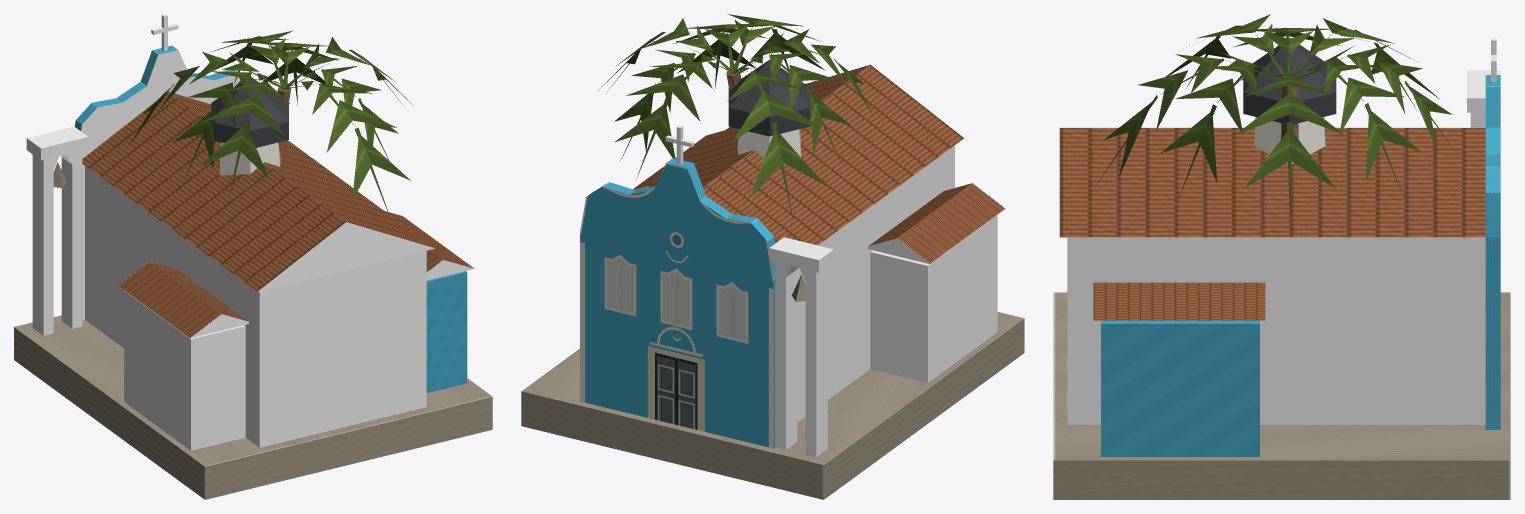
The model's file is landmark-features.v1.glb.
The picture shows the model from 3 angles, left to right: view 1: azimuth 30°, elevation 25°; view 2: azimuth 150°, elevation 25°; view 3: azimuth 270°, elevation 25°; orthographic projection. The views are drawn at different scales.
Visible parts, largest first — view 1: boipeba-divino-church, boipeba-coconut-palm, placeholder; view 2: boipeba-divino-church, boipeba-coconut-palm, placeholder; view 3: boipeba-divino-church, boipeba-coconut-palm, placeholder.
Part boxes in pixels (left/top/right/bottom): boipeba-divino-church: left=14, top=14, right=492, bottom=499; boipeba-coconut-palm: left=130, top=30, right=413, bottom=220; placeholder: left=211, top=77, right=288, bottom=175; boipeba-divino-church: left=521, top=64, right=1024, bottom=499; boipeba-coconut-palm: left=598, top=14, right=879, bottom=224; placeholder: left=728, top=60, right=810, bottom=158; boipeba-divino-church: left=1053, top=38, right=1510, bottom=499; boipeba-coconut-palm: left=1094, top=14, right=1458, bottom=218; placeholder: left=1243, top=38, right=1336, bottom=163.
Bounding box in the file's own units: 2.11 × 2.2 × 2.3.
1 material, 1 textured.
